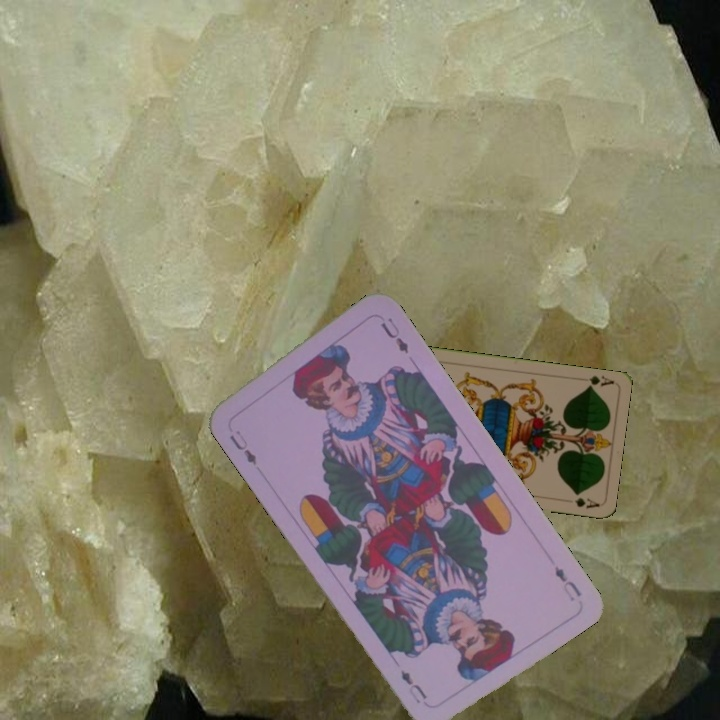EU: (225, 425, 260, 468), (550, 561, 584, 605)
GA: (583, 371, 616, 391)
